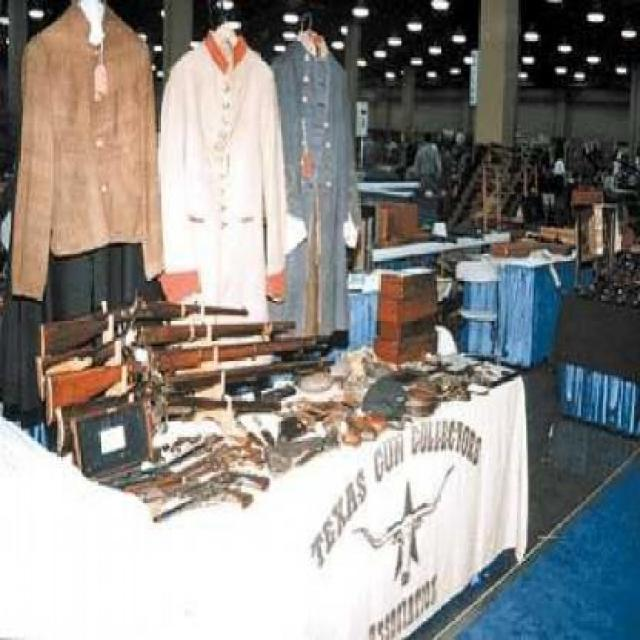weapon: (48, 347, 318, 413), (40, 298, 246, 350)
